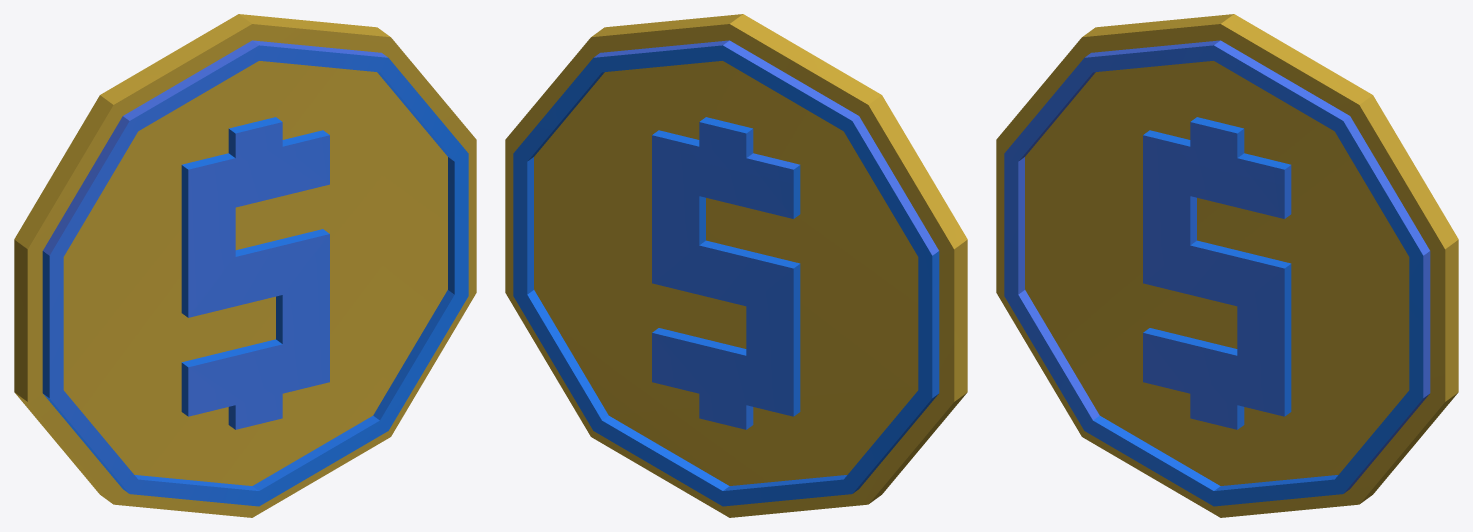
Rendered from retro_token1.fbx.
3 renders of one model, left to right at view 1: azimuth 30°, elevation 25°; view 2: azimuth 150°, elevation 25°; view 3: azimuth 330°, elevation 25°, orthographic.
Visible parts, largest first — view 1: retro_token1; view 2: retro_token1; view 3: retro_token1.
Boxes of the visible parts, x1=… form: retro_token1: x1=14, y1=14, x2=476, y2=517; retro_token1: x1=505, y1=14, x2=967, y2=517; retro_token1: x1=996, y1=14, x2=1458, y2=517.
Size of the model in its own units: 1.9 by 2 by 0.2.
